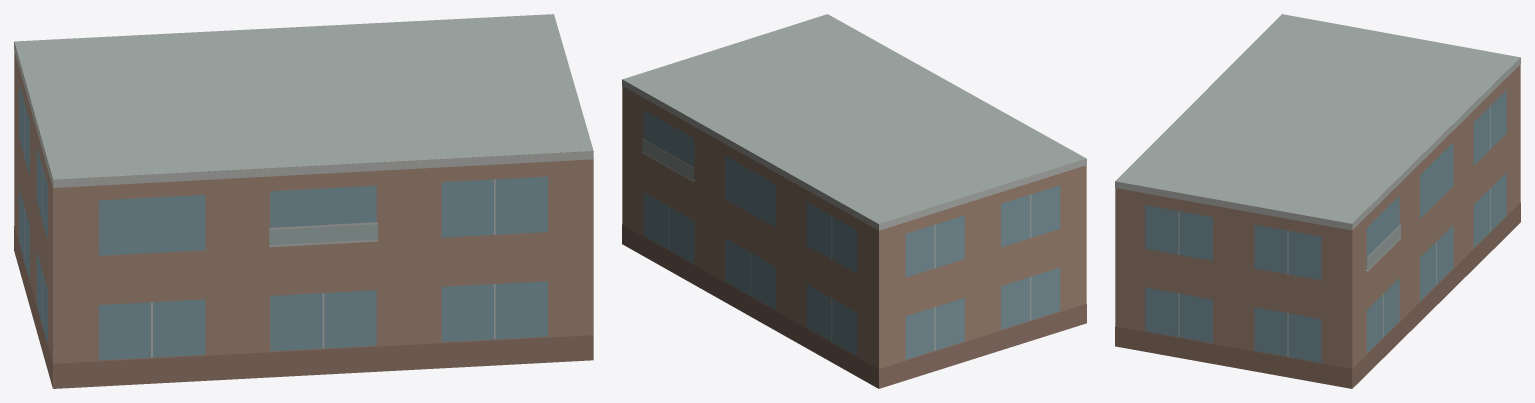
The model's file is survey-upis-32567319.glb.
3 views of the same model, side by side, from view 1: azimuth 30°, elevation 25°; view 2: azimuth 150°, elevation 25°; view 3: azimuth 270°, elevation 25° (orthographic). The views are drawn at different scales.
Parts seen in each view (by area): view 1: survey-upis-32567319.tmp; view 2: survey-upis-32567319.tmp; view 3: survey-upis-32567319.tmp.
Part boxes in pixels (<box>): survey-upis-32567319.tmp: <box>14,14,593,388</box>; survey-upis-32567319.tmp: <box>622,14,1086,388</box>; survey-upis-32567319.tmp: <box>1115,14,1520,388</box>.
Size of the model in its own units: 16.65 by 6.1 by 13.6.
